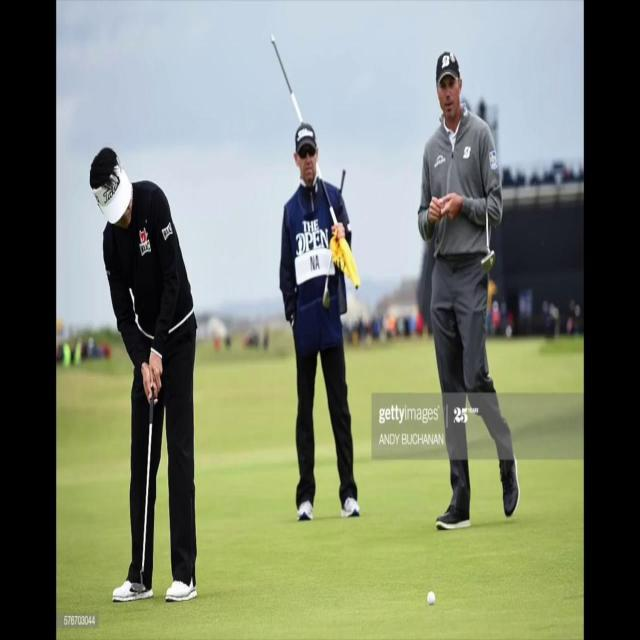ClubHead: (471, 230, 501, 278), (314, 265, 336, 313), (130, 566, 154, 604)
GolfBall: (420, 578, 441, 610)
